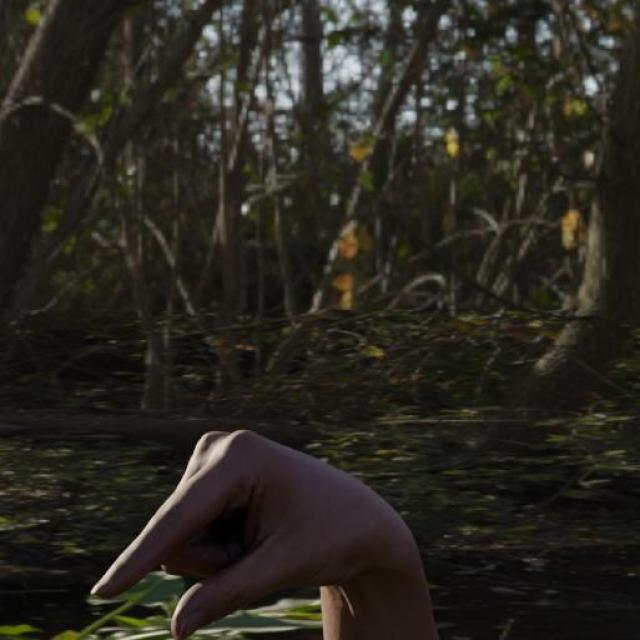Q: (82, 426, 397, 640)
